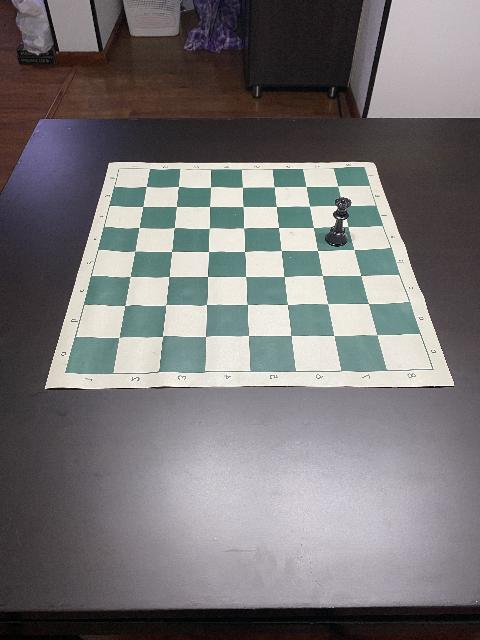black-queen: (324, 196, 352, 247)
board: (45, 162, 455, 390)
